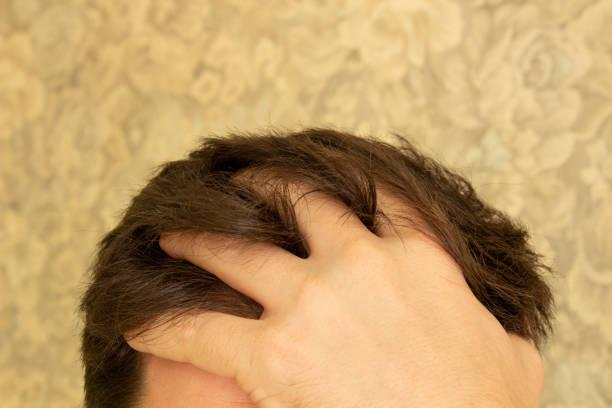dry hair: (474, 236, 532, 308), (198, 168, 270, 214), (305, 146, 371, 189), (373, 148, 424, 187), (369, 204, 439, 228), (141, 284, 215, 304), (147, 195, 195, 215)
